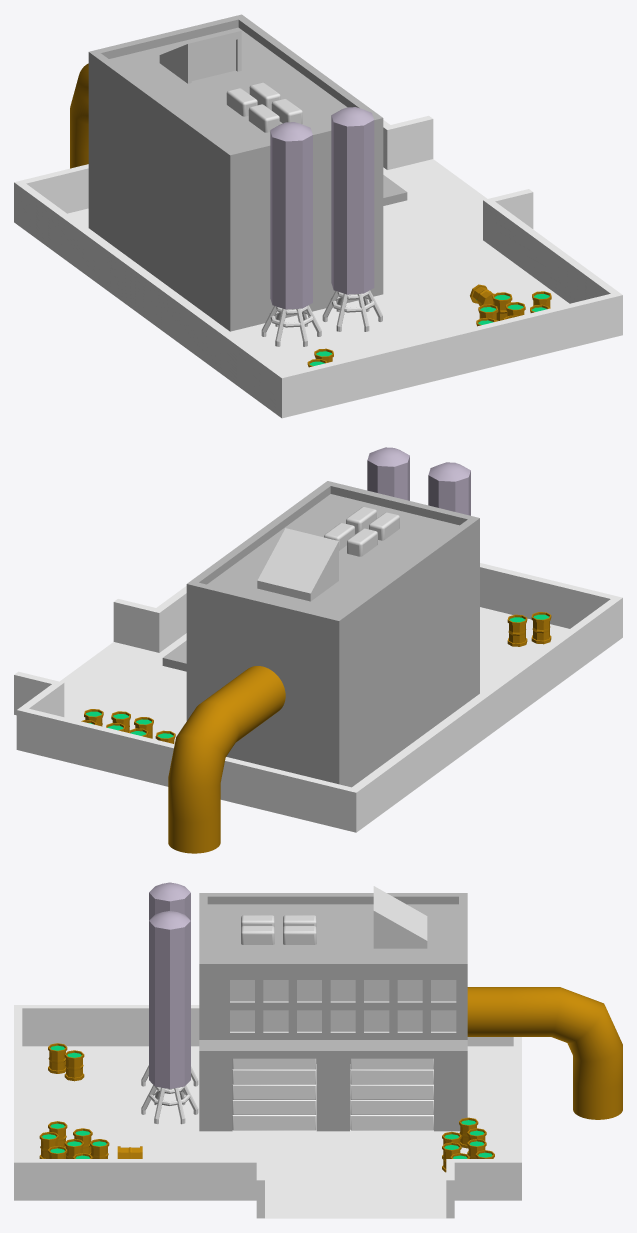
The picture shows the model from 3 angles, top to bottom: view 1: azimuth 30°, elevation 25°; view 2: azimuth 150°, elevation 25°; view 3: azimuth 270°, elevation 25°; orthographic projection. The views are drawn at different scales.
Parts seen in each view (by area): view 1: Frence, Top_Floor, Floor, Oil_Tanks, Walls, Roof_Exit, Overhang, AC, Barrels, Ceiling, Tube; view 2: Top_Floor, Frence, Walls, Floor, Tube, Roof_Exit, Oil_Tanks, Overhang, Barrels, AC, Ceiling; view 3: Floor, Top_Floor, Frence, Tube, Oil_Tanks, Walls, Overhang, Barrels, Roof_Exit, AC, Cube_3_2, Cube_0_2 (+9 smaller).
Part boxes in pixels (box(x1,y1,x2,y2)): Frence: box(14, 115, 622, 418); Top_Floor: box(88, 14, 383, 235); Floor: box(14, 159, 620, 418); Oil_Tanks: box(261, 107, 382, 346); Walls: box(88, 148, 383, 331); Roof_Exit: box(159, 31, 241, 83); Overhang: box(88, 132, 407, 243); AC: box(226, 82, 302, 132); Barrels: box(307, 284, 551, 367); Ceiling: box(88, 140, 383, 251); Tube: box(70, 63, 88, 168); Top_Floor: box(186, 481, 479, 700); Frence: box(14, 563, 622, 832); Walls: box(186, 614, 479, 787); Floor: box(15, 607, 620, 832); Tube: box(168, 666, 285, 853); Roof_Exit: box(257, 528, 338, 601); Oil_Tanks: box(367, 447, 470, 515); Overhang: box(162, 598, 479, 708); Barrels: box(81, 612, 551, 743); AC: box(324, 506, 399, 556); Ceiling: box(186, 606, 479, 716); Floor: box(22, 1046, 513, 1218); Top_Floor: box(199, 893, 467, 1039); Frence: box(14, 1005, 521, 1218); Tube: box(467, 987, 622, 1119); Oil_Tanks: box(141, 882, 198, 1124); Walls: box(199, 1058, 467, 1131); Overhang: box(199, 1040, 467, 1058); Barrels: box(39, 1043, 494, 1172); Roof_Exit: box(373, 886, 427, 948); AC: box(241, 915, 316, 944); Cube_3_2: box(232, 1069, 316, 1084); Cube_0_2: box(232, 1115, 316, 1130).
Bounding box in the file's own units: 495 × 278 × 726.
